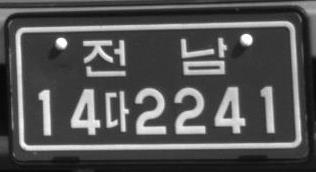1: (254, 85, 282, 134), (33, 88, 59, 136)
2: (133, 85, 168, 137), (173, 85, 206, 136)
4: (213, 85, 247, 135), (69, 87, 101, 136)
다: (103, 88, 129, 134)
전남_D: (81, 36, 226, 77)
